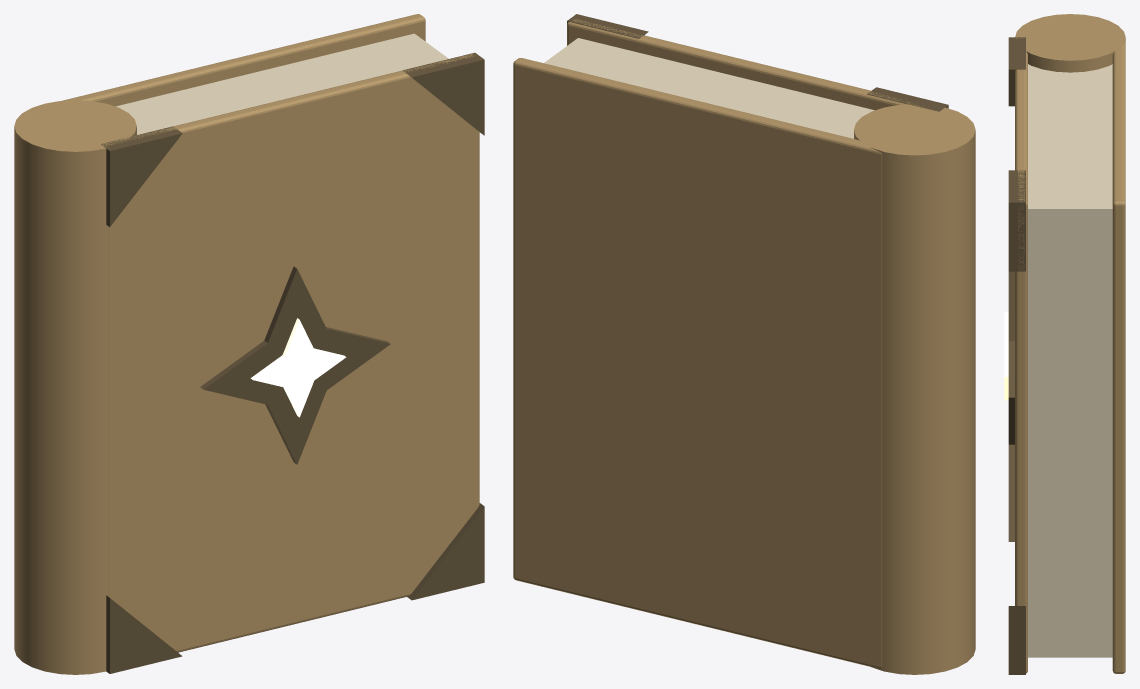
The model's file is vo-chep-thay-do.glb.
3 renders of one model, left to right at view 1: azimuth 30°, elevation 25°; view 2: azimuth 150°, elevation 25°; view 3: azimuth 270°, elevation 25°, orthographic. The views are drawn at different scales.
Visible parts, largest first — view 1: cover_f, spine, pages, emblem, cover_b, corner-11, corner11, corner1-1, emblem_c, corner-1-1; view 2: cover_b, spine, pages, cover_f, corner11, corner-11; view 3: pages, cover_b, cover_f, spine, corner11, corner1-1, emblem, corner-11, corner-1-1, emblem_c.
Part boxes in pixels (box(x1,y1,x2,y2)): cover_f: box(104, 54, 479, 652); spine: box(14, 100, 136, 674); pages: box(116, 33, 448, 134); emblem: box(200, 266, 390, 464); cover_b: box(50, 14, 425, 106); corner-11: box(101, 126, 182, 226); corner11: box(402, 52, 484, 135); corner1-1: box(407, 503, 484, 600); emblem_c: box(250, 318, 346, 417); corner-1-1: box(106, 595, 182, 673); cover_b: box(513, 58, 885, 668); spine: box(854, 104, 975, 674); pages: box(544, 38, 874, 138); cover_f: box(567, 19, 923, 110); corner11: box(567, 14, 648, 38); corner-11: box(867, 87, 948, 111); pages: box(1028, 64, 1112, 657); cover_b: box(1112, 38, 1125, 673); cover_f: box(1015, 51, 1027, 673); spine: box(1015, 14, 1125, 72); corner11: box(1008, 170, 1025, 271); corner1-1: box(1008, 606, 1025, 674); emblem: box(1008, 271, 1014, 444); corner-11: box(1008, 37, 1025, 106); corner-1-1: box(1008, 444, 1014, 541); emblem_c: box(1004, 312, 1008, 400).
Size of the model in its own units: 0.411 by 0.48 by 0.112.
